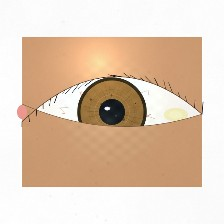pinguecula_lesion: (152, 95, 200, 134)
